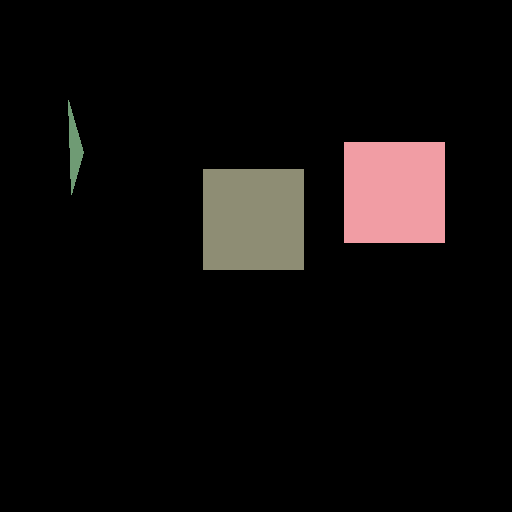square: (203, 169, 303, 269), (344, 142, 444, 242)
triangle: (68, 100, 83, 194)
